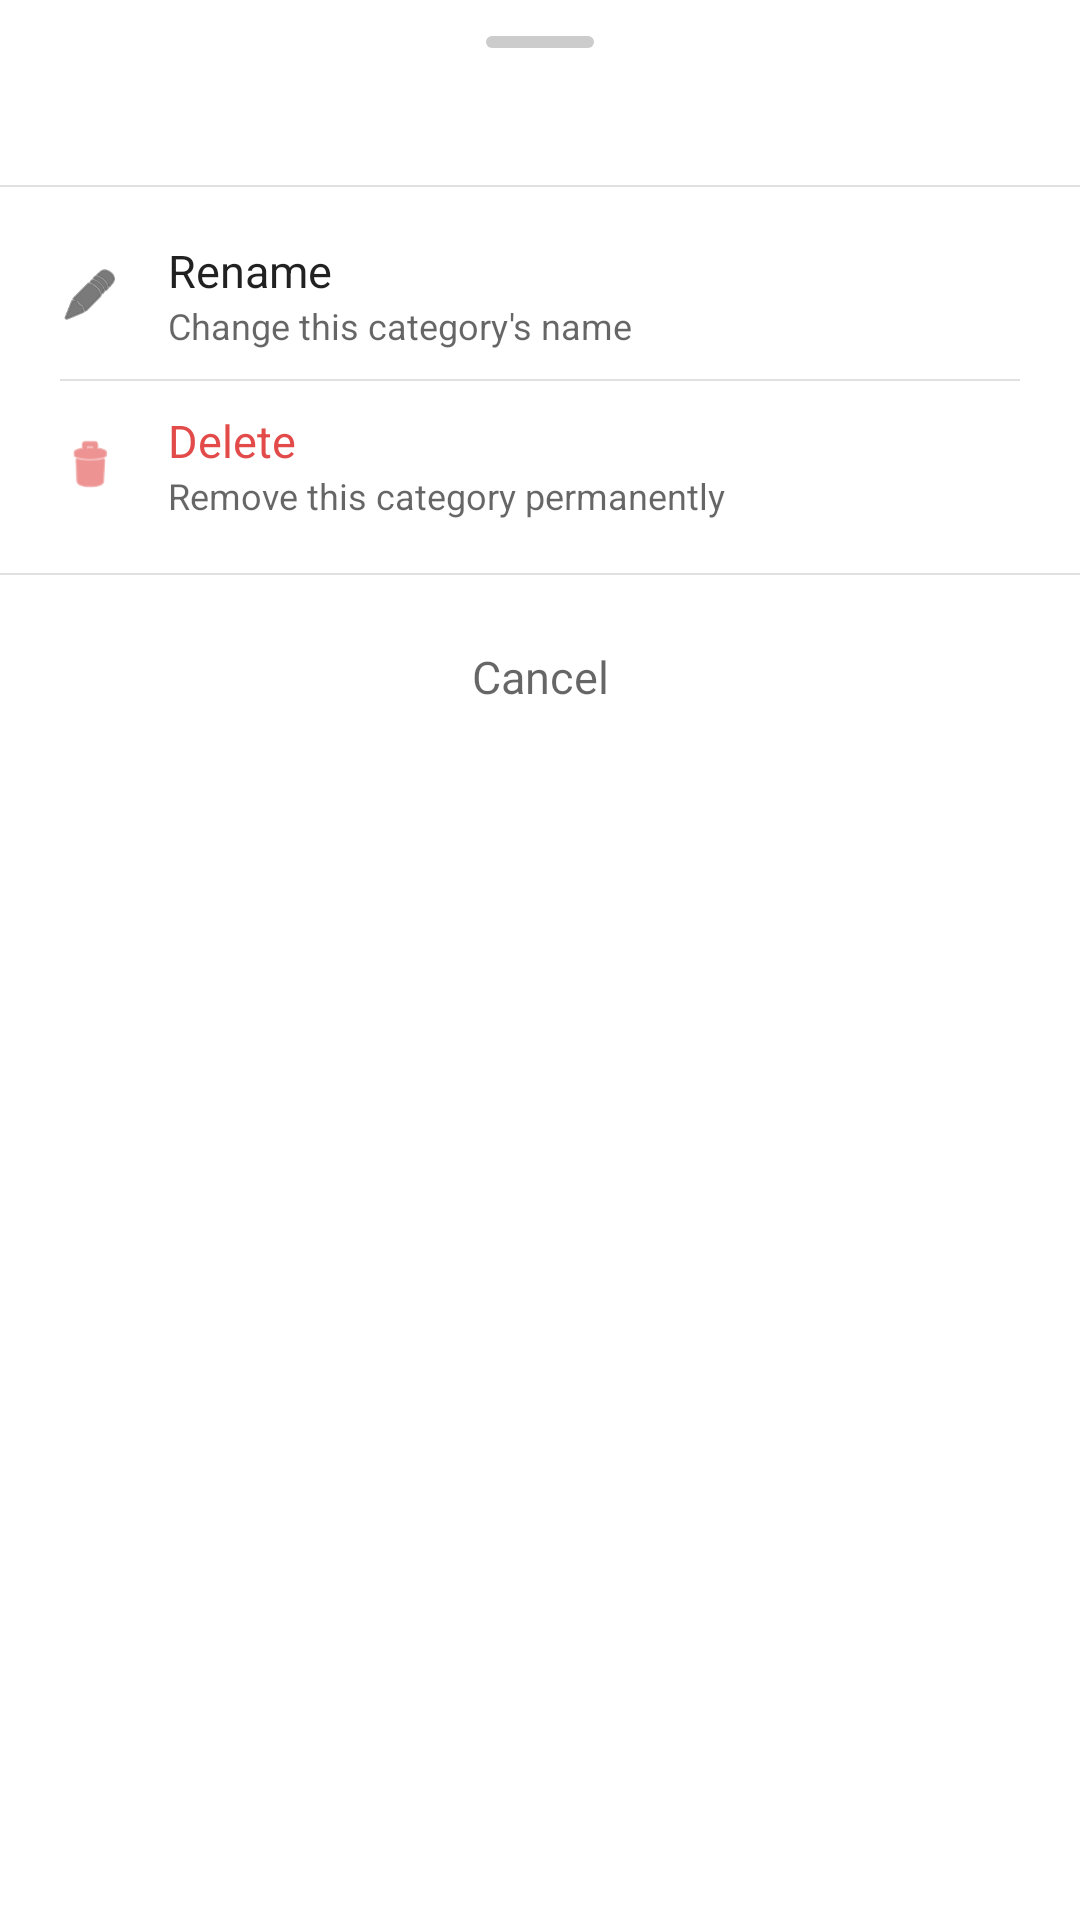

Screen size 1080 x 1920. Icon name, then its center in pixels as (x,y):
edit: (89,294)
